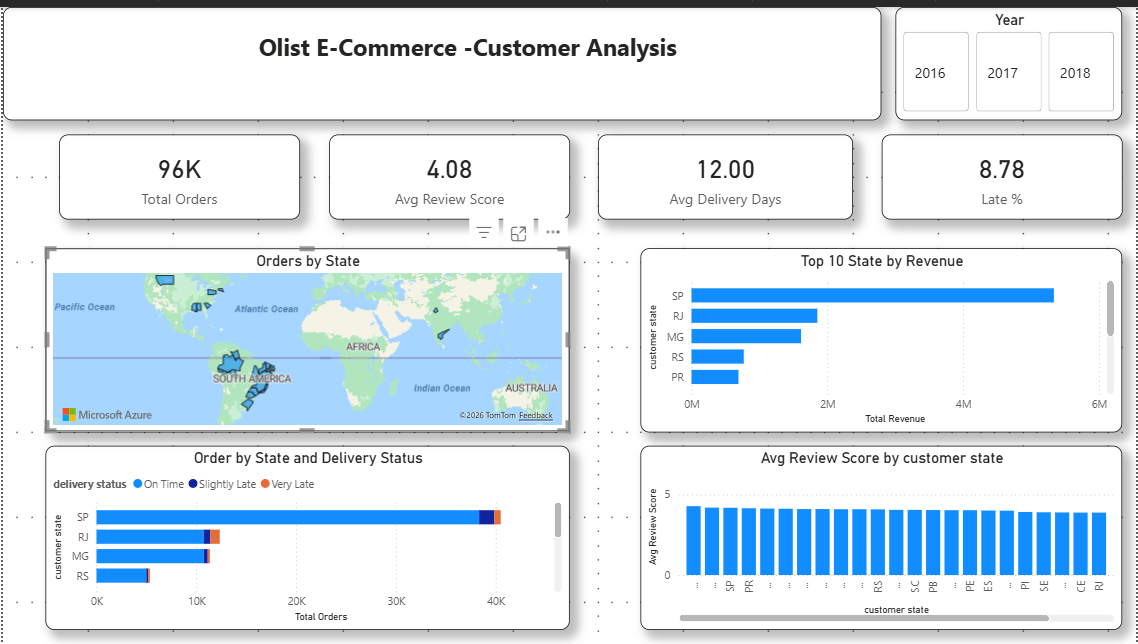

Layout of this report page (visuals, bound fields, positions):
{"tool":"powerbi","page":{"name":"Customer Analysis","canvas":[1280,720],"ordinal":1},"visuals":[{"type":"azureMap","title":"Orders by State","fields":{"Category":["DimCustomer.Customer_Country","DimCustomer.customer state"]},"box":[48,272,592,208],"z":0},{"type":"clusteredBarChart","title":"Top 10 State by Revenue","fields":{"Category":["DimCustomer.customer_state"],"Y":["KPI.Total Revenue"]},"box":[720,272,544,208],"z":1000},{"type":"barChart","title":"Order by State and Delivery Status","fields":{"Category":["DimCustomer.customer_state"],"Series":["FactOrders.delivery_status"],"Y":["KPI.Total Orders"]},"box":[48,496,592,208],"z":2000},{"type":"clusteredColumnChart","title":"Bottom 10 States by Avg Review Score","fields":{"Category":["DimCustomer.customer_state"],"Y":["KPI.Avg Review Score"]},"box":[720,496,544,208],"z":3000},{"type":"card","fields":{"Values":["KPI.Total Orders"]},"box":[64,144,272,96],"z":4000},{"type":"card","fields":{"Values":["KPI.Avg Review Score"]},"box":[368,144,272,96],"z":5000},{"type":"card","fields":{"Values":["KPI.Avg Delivery Days"]},"box":[672,144,288,96],"z":6000},{"type":"card","fields":{"Values":["KPI.Late %"]},"box":[992,144,272,96],"z":7000},{"type":"textbox","box":[0,0,992,128],"z":8000},{"type":"advancedSlicerVisual","fields":{"Values":["DimDate.Year"]},"box":[1008,0,256,128],"z":9000}]}

Visuals, with their boxes in screenshot pixels (x1, y1, x2, y2), scaled from the page's 1280x720 canvas onto the 1138x644 screenshot:
"Orders by State" azureMap: 43/243/569/429
"Top 10 State by Revenue" clusteredBarChart: 640/243/1124/429
"Order by State and Delivery Status" barChart: 43/444/569/630
"Bottom 10 States by Avg Review Score" clusteredColumnChart: 640/444/1124/630
card - KPI.Total Orders: 57/129/299/215
card - KPI.Avg Review Score: 327/129/569/215
card - KPI.Avg Delivery Days: 597/129/854/215
card - KPI.Late %: 882/129/1124/215
textbox: 0/0/882/114
advancedSlicerVisual - DimDate.Year: 896/0/1124/114
